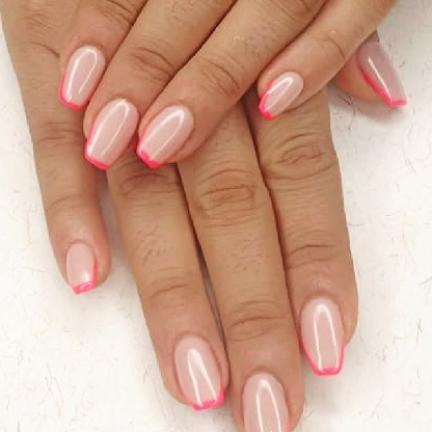Nail: (83, 98, 139, 171), (174, 337, 225, 413), (136, 104, 194, 170), (300, 297, 346, 379), (357, 41, 408, 108), (57, 46, 105, 112), (243, 373, 289, 431), (259, 72, 304, 121), (66, 243, 97, 296)
